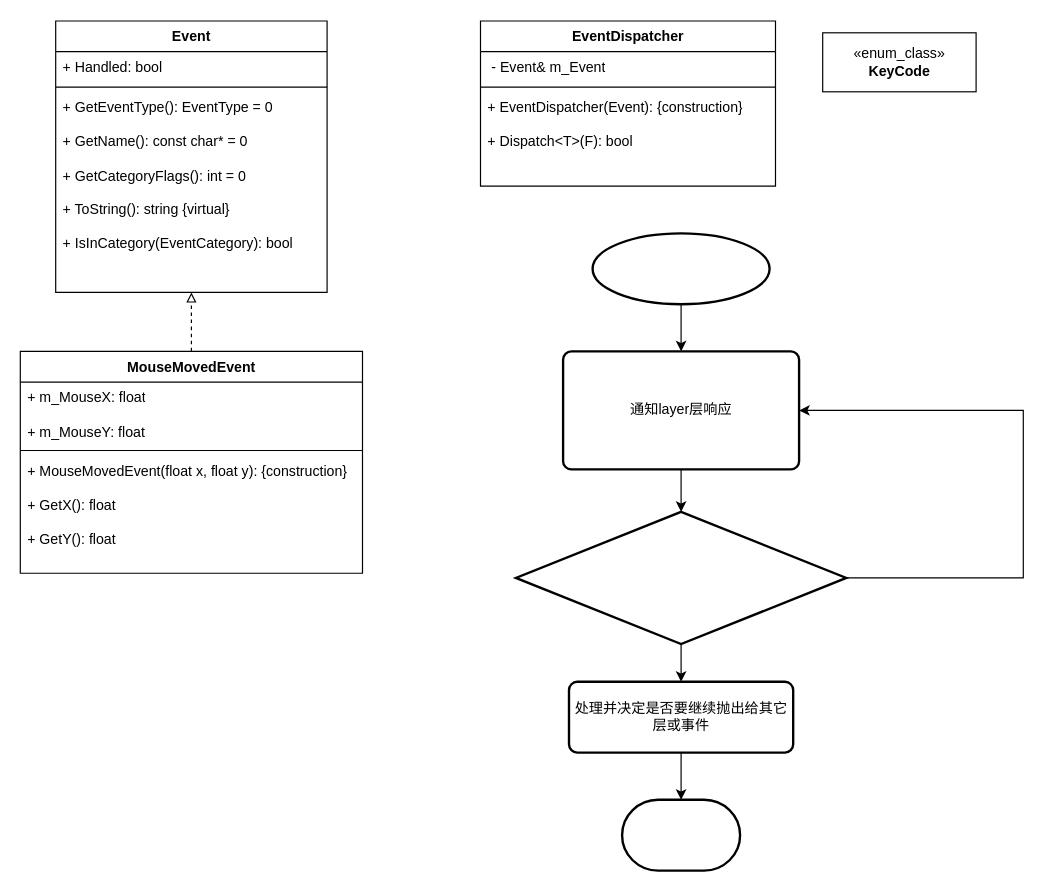
Image size: 1054x892. Some labels were removed from this diagram. Here are the shapes that lost their labels. From the top down, the centre of each, then its label:
the point at 680,268: glfw回调触发
the point at 680,577: 是否为本层处理事件
the point at 680,834: 结束
